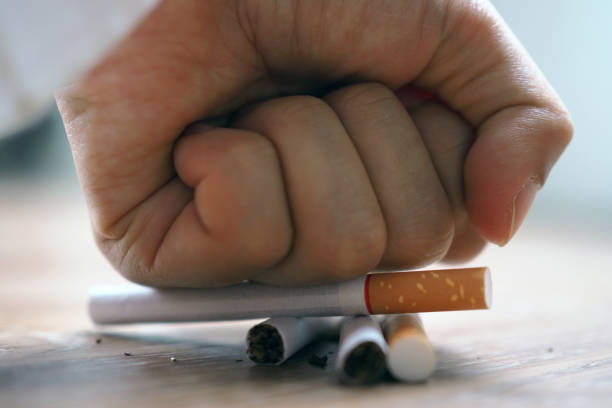cigarette: (83, 265, 491, 330), (245, 311, 339, 367), (382, 312, 438, 383), (337, 314, 388, 387)
